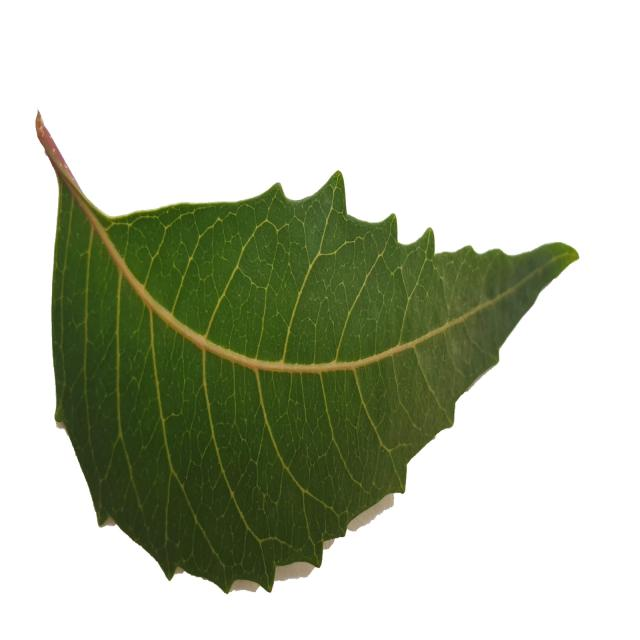Medicinal-Neem: (33, 105, 581, 598)
